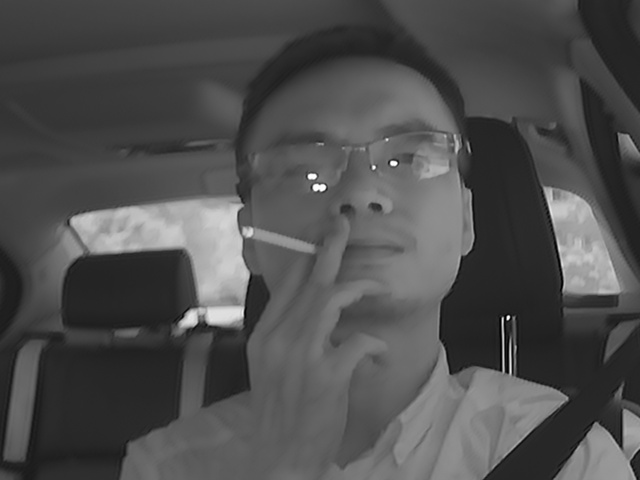hand: (256, 228, 391, 388)
